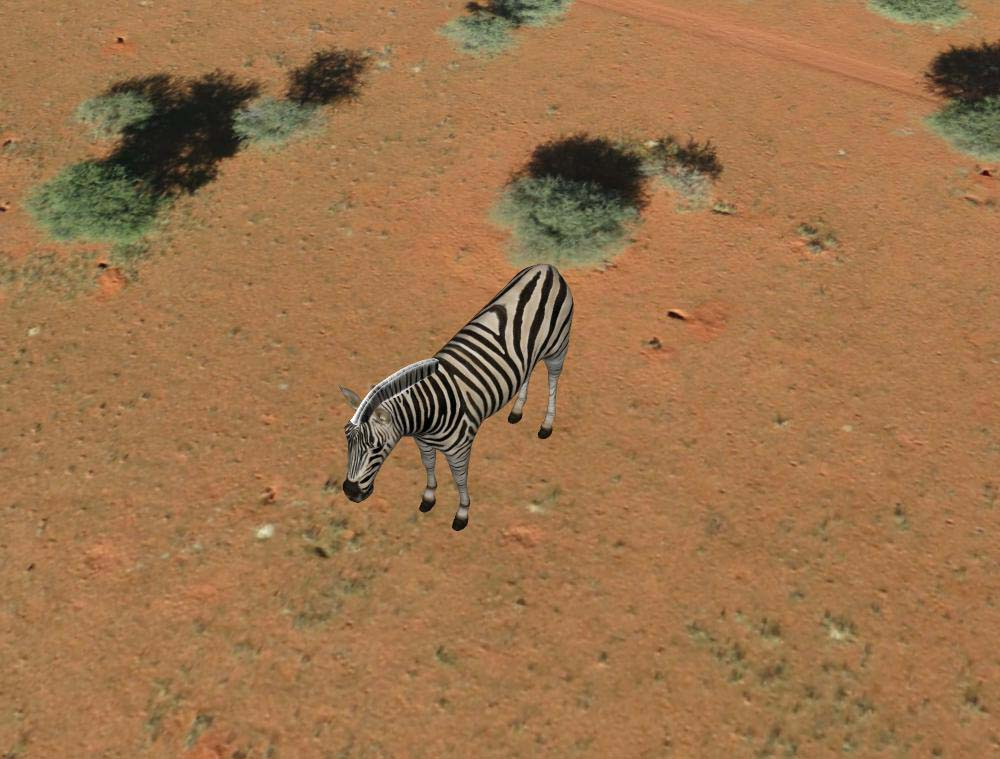zebra: (339, 262, 577, 540)
